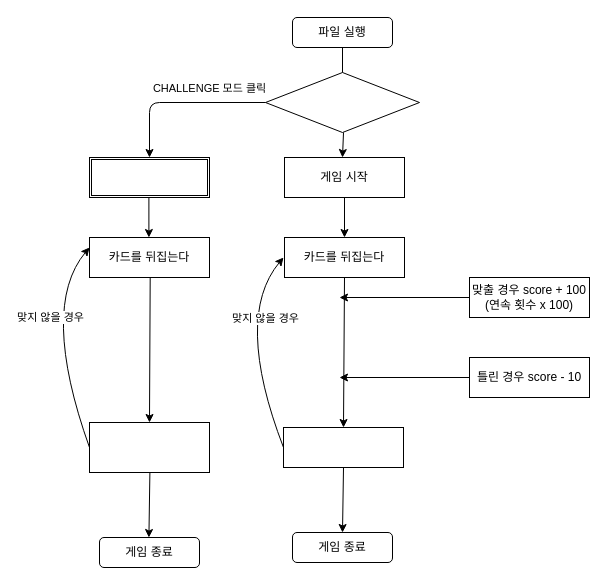
The diagram is 608 pixels wide and 585 high, and some of its shapes have lost their labels. Here are the shapes that lost their labels. From the top down, the centre of each, then its label:
At point 342,102: "START버튼을 클릭".
At point 149,177: "CHALLENGE 모드 시작".
At point 149,447: "뒤집은 카드 뒷면이 이미 뒤집힌 카드의 숫자가 순서대로일치".
At point 343,447: "뒷면의 그림이 맞는 카드끼리 선택".
